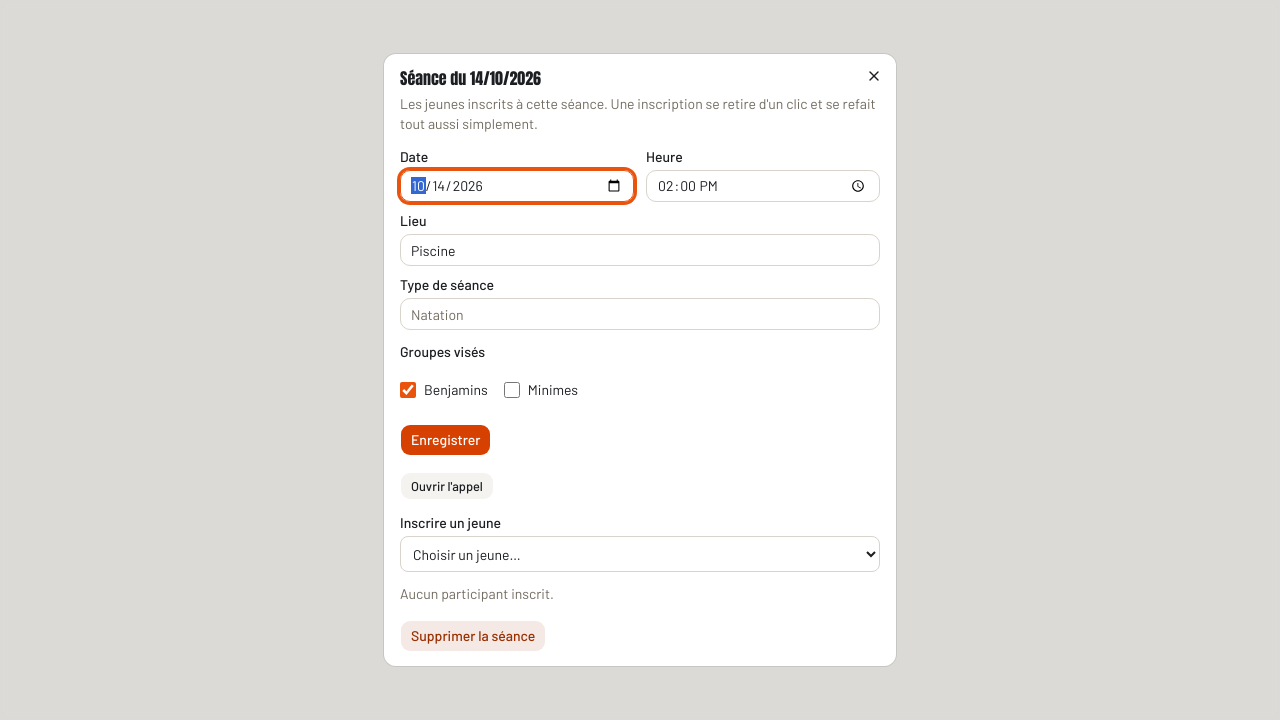
EntrainementDetailDialog, groupes visés (#1291) › coche les groupes déjà visés et en ajoute un second
Expected: the checkbox labelled "Benjamins" is checked, left=400, top=382, right=416, bottom=398
Click the checkbox labelled "Minimes" at (512, 390), box left=504, top=382, right=520, bottom=398
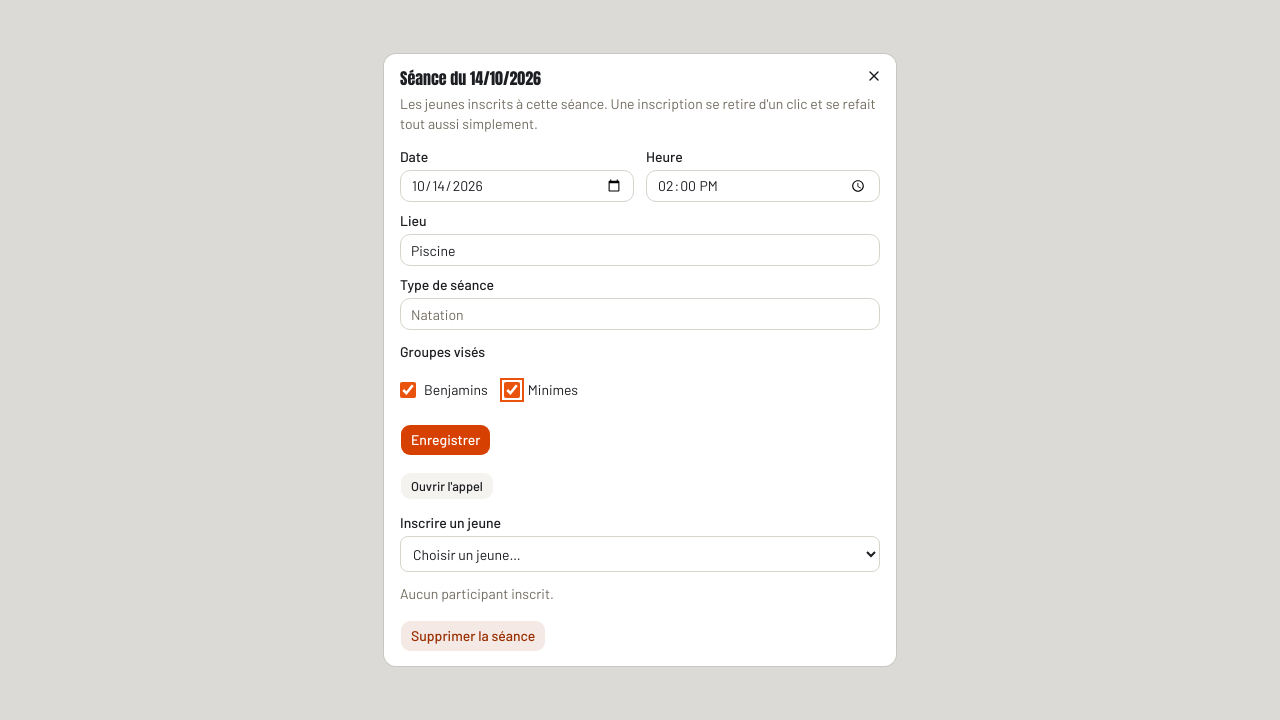
Click the button "Enregistrer" at (446, 440), box left=400, top=424, right=492, bottom=456
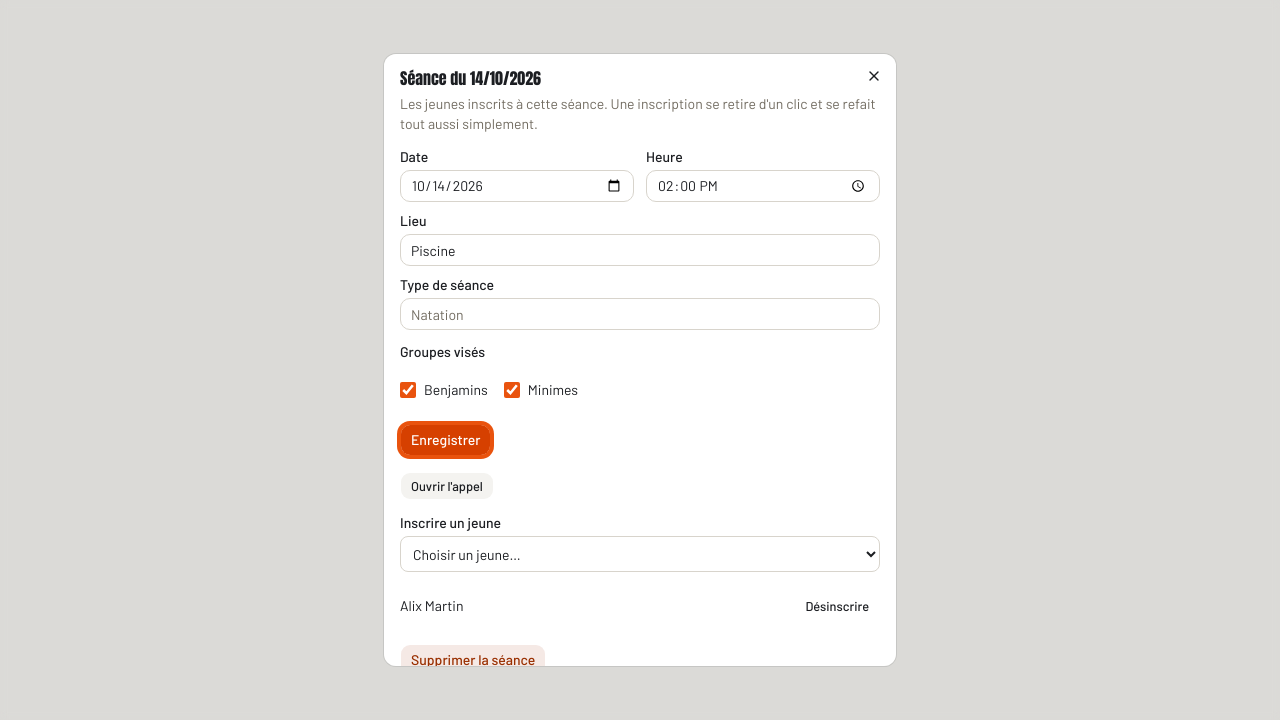
Now the text "Alix Martin" is shown, box left=400, top=596, right=463, bottom=616
